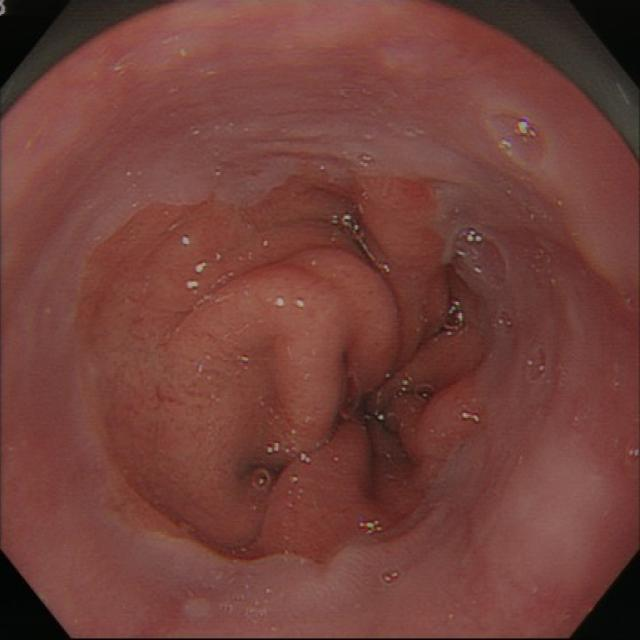I: (214, 237, 489, 536)
J: (559, 203, 629, 308)
T: (485, 107, 552, 178), (453, 223, 510, 291), (335, 214, 388, 278), (524, 346, 564, 388), (338, 367, 363, 425), (396, 375, 438, 405), (439, 298, 467, 336), (381, 564, 406, 588), (491, 306, 513, 333), (623, 436, 640, 466), (357, 151, 374, 167)
U: (182, 234, 207, 291), (265, 441, 312, 467), (274, 294, 309, 313), (359, 517, 384, 538), (459, 410, 482, 427), (378, 411, 387, 423)
